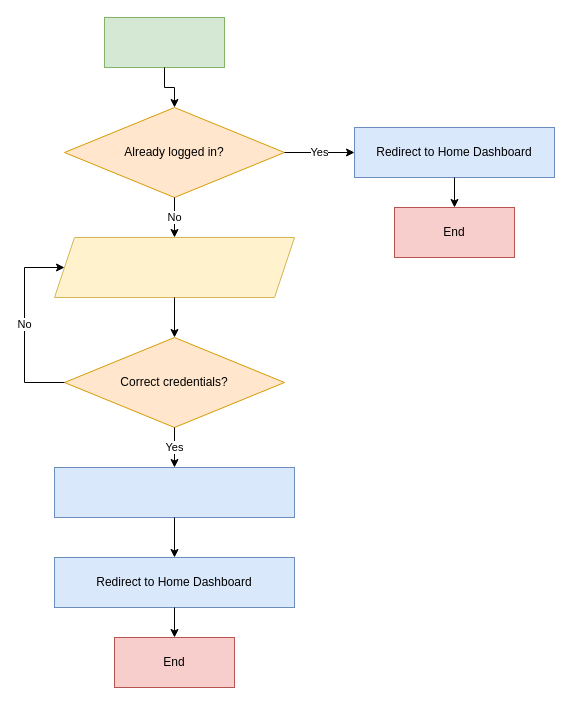
This 572x705 diagram has some shape labels left out. The centre of each missing label's shape, as x and y in pixels:
"Enter email & password" goes at pixel 174 267.
"Start" goes at pixel 164 42.
"Store session (user_id, name)" goes at pixel 174 492.
